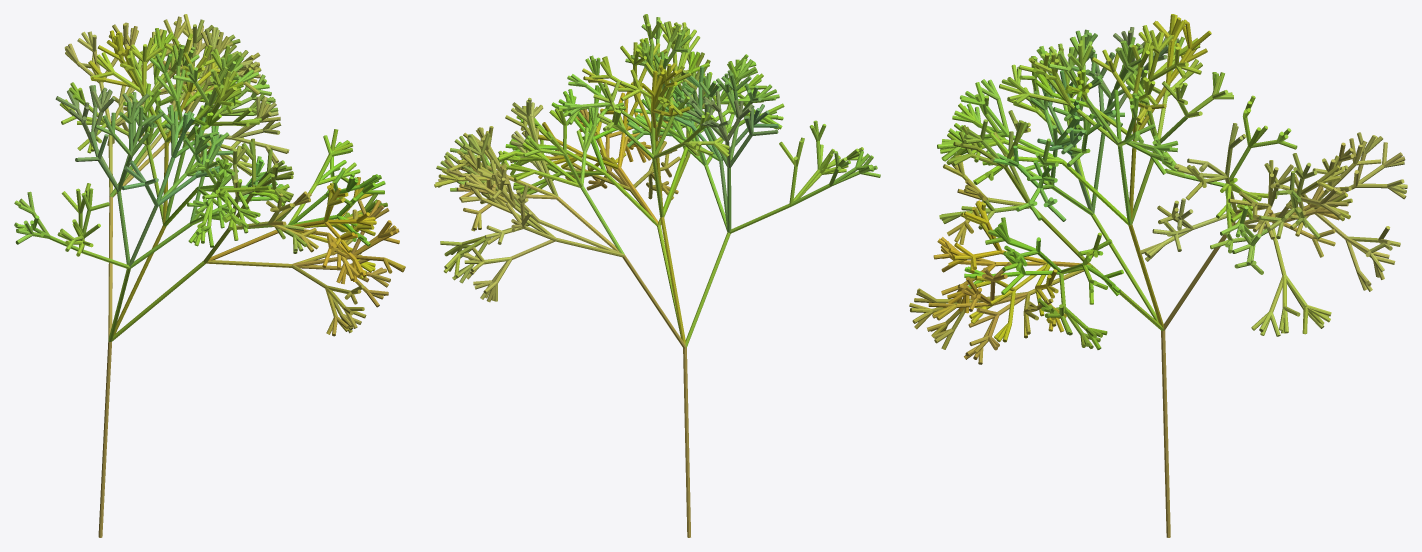
3 views of the same model, side by side, from view 1: azimuth 30°, elevation 25°; view 2: azimuth 150°, elevation 25°; view 3: azimuth 270°, elevation 25° (orthographic). The views are drawn at different scales.
Visible parts, largest first — view 1: Cylinder.001, Cylinder.002, Cylinder.299, Cylinder.572; view 2: Cylinder.001, Cylinder.572, Cylinder.857; view 3: Cylinder.001.
Part boxes in pixels (box(x1,y1,x2,y2)): Cylinder.001: box(98, 341, 111, 537); Cylinder.002: box(108, 196, 112, 339); Cylinder.299: box(111, 261, 205, 341); Cylinder.572: box(113, 225, 166, 335); Cylinder.001: box(683, 348, 690, 537); Cylinder.572: box(660, 217, 685, 344); Cylinder.857: box(685, 232, 730, 347); Cylinder.001: box(1161, 330, 1170, 537).
Bounding box in the file's own units: 6.75 × 8.62 × 7.24.
